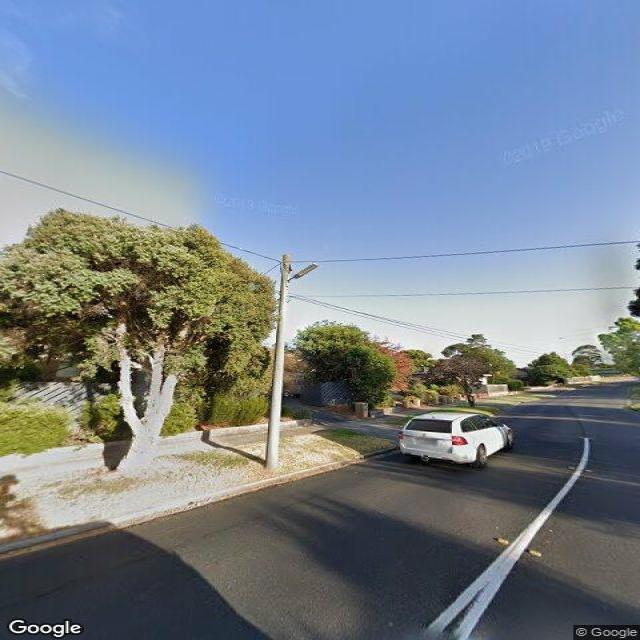streetlight: (288, 263, 321, 284)
timber-pole: (265, 254, 291, 470)
